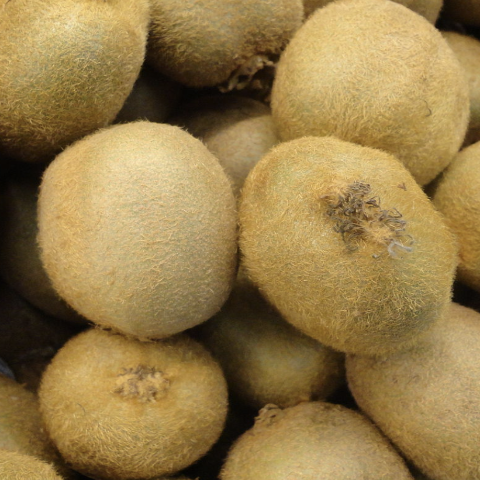kiwi: (14, 120, 263, 359), (224, 123, 463, 368), (263, 0, 478, 186), (32, 309, 231, 480)
